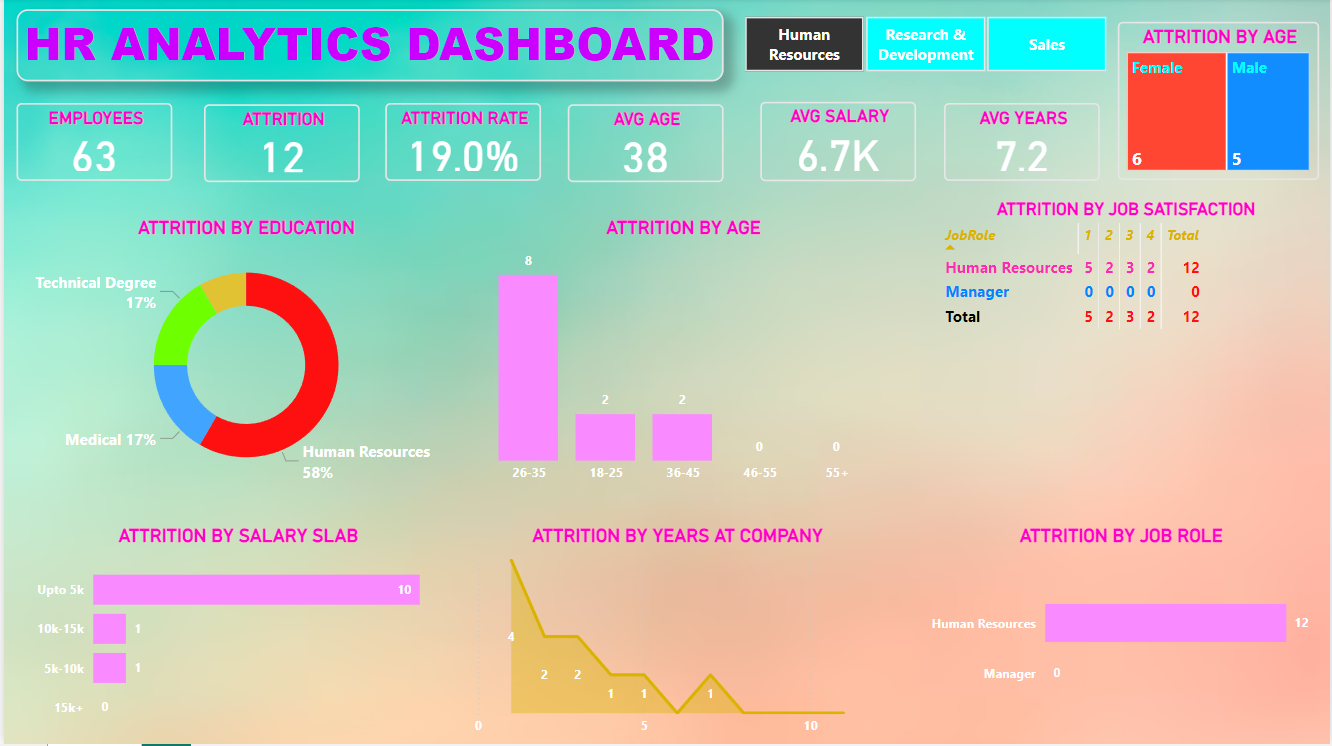

Layout of this report page (visuals, bound fields, positions):
{"tool":"powerbi","page":{"name":"Page 1","canvas":[1280,720],"ordinal":0},"visuals":[{"type":"card","title":"EMPLOYEES","fields":{"Values":["CountNonNull(HR_Analytics.EmpID)"]},"box":[11.7,101.6,150.3,75.1],"z":0},{"type":"card","title":"ATTRITION","fields":{"Values":["Sum(HR_Analytics.AttritionCount)"]},"box":[193,102.3,150.3,75.1],"z":1000},{"type":"card","title":"ATTRITION RATE","fields":{"Values":["HR_Analytics.AttritionRate"]},"box":[367.9,101.1,150.3,75.1],"z":2000},{"type":"card","title":"AVG AGE","fields":{"Values":["Avg(HR_Analytics.Age)"]},"box":[544.1,102.3,150.3,75.1],"z":3000},{"type":"card","title":"AVG SALARY","fields":{"Values":["Avg(HR_Analytics.MonthlyIncome)"]},"box":[729.4,99.8,150.3,76.4],"z":4000},{"type":"card","title":"AVG YEARS","fields":{"Values":["Avg(HR_Analytics.YearsAtCompany)"]},"box":[906.9,101.1,150.3,75.1],"z":5000},{"type":"donutChart","title":"ATTRITION BY EDUCATION","fields":{"Category":["HR_Analytics.EducationField"],"Y":["Sum(HR_Analytics.AttritionCount)"]},"box":[25.9,211.2,417.2,265.6],"z":6000},{"type":"columnChart","title":"ATTRITION BY AGE","fields":{"Category":["HR_Analytics.AgeGroup"],"Y":["Sum(HR_Analytics.AttritionCount)"]},"box":[443.1,211.2,426.2,265.6],"z":7000},{"type":"pivotTable","title":"ATTRITION BY JOB SATISFACTION","fields":{"Rows":["HR_Analytics.JobRole"],"Columns":["HR_Analytics.JobSatisfaction"],"Values":["Sum(HR_Analytics.AttritionCount)"]},"box":[896.5,193,373.1,301.9],"z":8000},{"type":"barChart","title":"ATTRITION BY SALARY SLAB","fields":{"Category":["HR_Analytics.SalarySlab"],"Y":["Sum(HR_Analytics.AttritionCount)"]},"box":[25.9,507.9,401.6,212.5],"z":9000},{"type":"barChart","title":"ATTRITION BY JOB ROLE","fields":{"Category":["HR_Analytics.JobRole"],"Y":["Sum(HR_Analytics.AttritionCount)"]},"box":[888.7,507.9,378.3,212.5],"z":10000},{"type":"stackedAreaChart","title":"ATTRITION BY YEARS AT COMPANY","fields":{"Category":["HR_Analytics.YearsAtCompany"],"Y":["Sum(HR_Analytics.AttritionCount)"]},"box":[443.1,507.9,414.6,212.5],"z":11000},{"type":"treemap","title":"ATTRITION BY AGE","fields":{"Group":["HR_Analytics.Gender"],"Values":["Sum(HR_Analytics.AttritionCount)"]},"box":[1075.3,23.3,194.3,152.9],"z":12000},{"type":"slicer","fields":{"Values":["HR_Analytics.Department"]},"box":[689.2,10.4,399,67.4],"z":13000},{"type":"textbox","box":[11.7,10.4,682.8,70],"z":14000}]}

Visuals, with their boxes in screenshot pixels (x1, y1, x2, y2), scaled from the page's 1280x720 canvas onto the 1332x746 screenshot:
"EMPLOYEES" card: (12, 105, 169, 183)
"ATTRITION" card: (201, 106, 357, 184)
"ATTRITION RATE" card: (383, 105, 539, 183)
"AVG AGE" card: (566, 106, 723, 184)
"AVG SALARY" card: (759, 103, 915, 183)
"AVG YEARS" card: (944, 105, 1100, 183)
"ATTRITION BY EDUCATION" donutChart: (27, 219, 461, 494)
"ATTRITION BY AGE" columnChart: (461, 219, 905, 494)
"ATTRITION BY JOB SATISFACTION" pivotTable: (933, 200, 1321, 513)
"ATTRITION BY SALARY SLAB" barChart: (27, 526, 445, 745)
"ATTRITION BY JOB ROLE" barChart: (925, 526, 1318, 745)
"ATTRITION BY YEARS AT COMPANY" stackedAreaChart: (461, 526, 893, 745)
"ATTRITION BY AGE" treemap: (1119, 24, 1321, 183)
slicer - HR_Analytics.Department: (717, 11, 1132, 81)
textbox: (12, 11, 723, 83)
